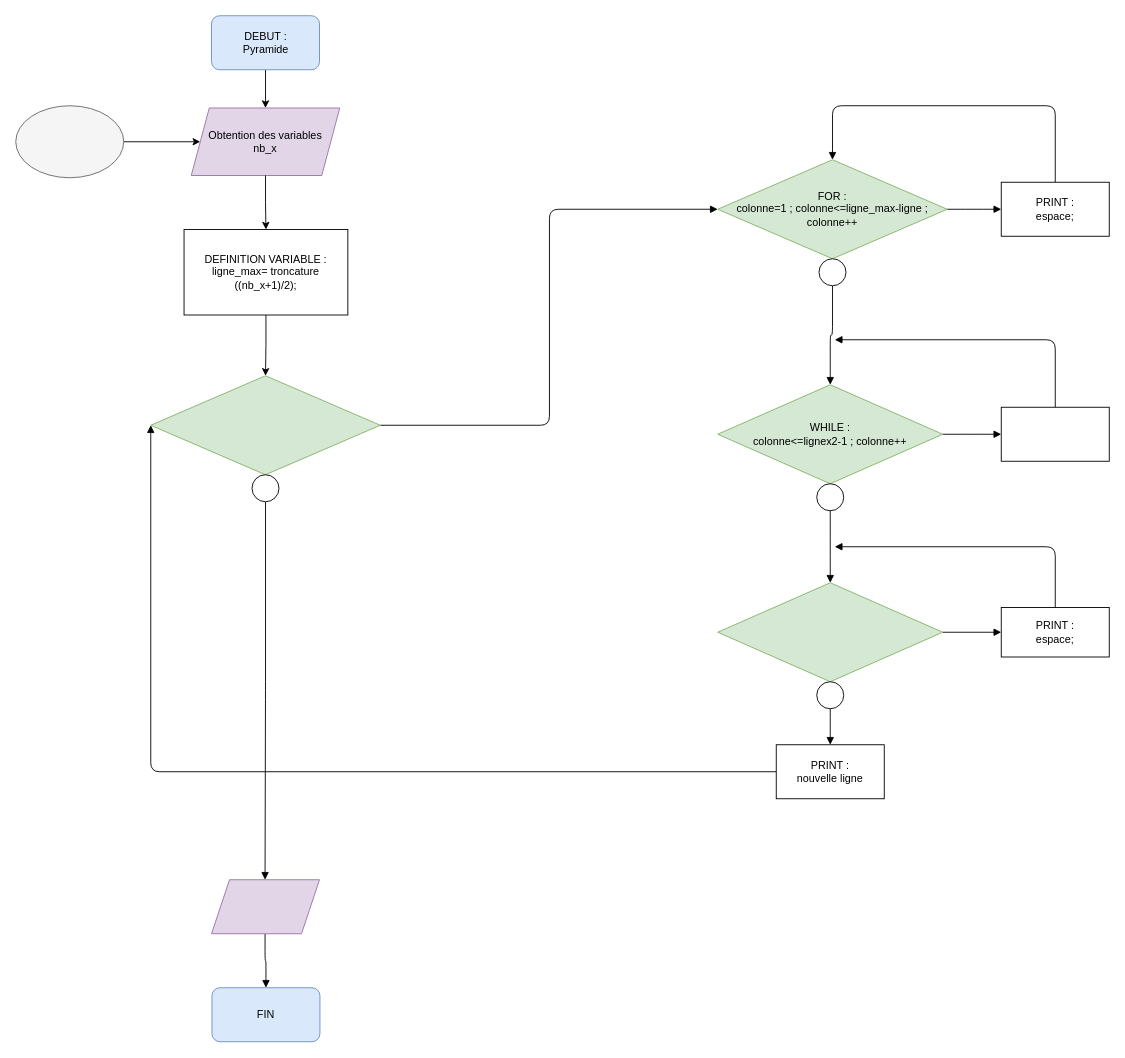
Image size: 1125x1058. Some labels were removed from this diagram. Each missing label, with the box of its shape:
FOR : ligne=1 ; ligne<=ligne_max ; ligne++: (150, 375, 380, 475)
Manière d'obtenir: (15, 105, 124, 178)
PRINT : x;: (1000, 406, 1109, 461)
RETURN : void: (211, 879, 320, 934)
WHILE : colonne<=nb_x ; colonne++: (717, 582, 943, 682)
